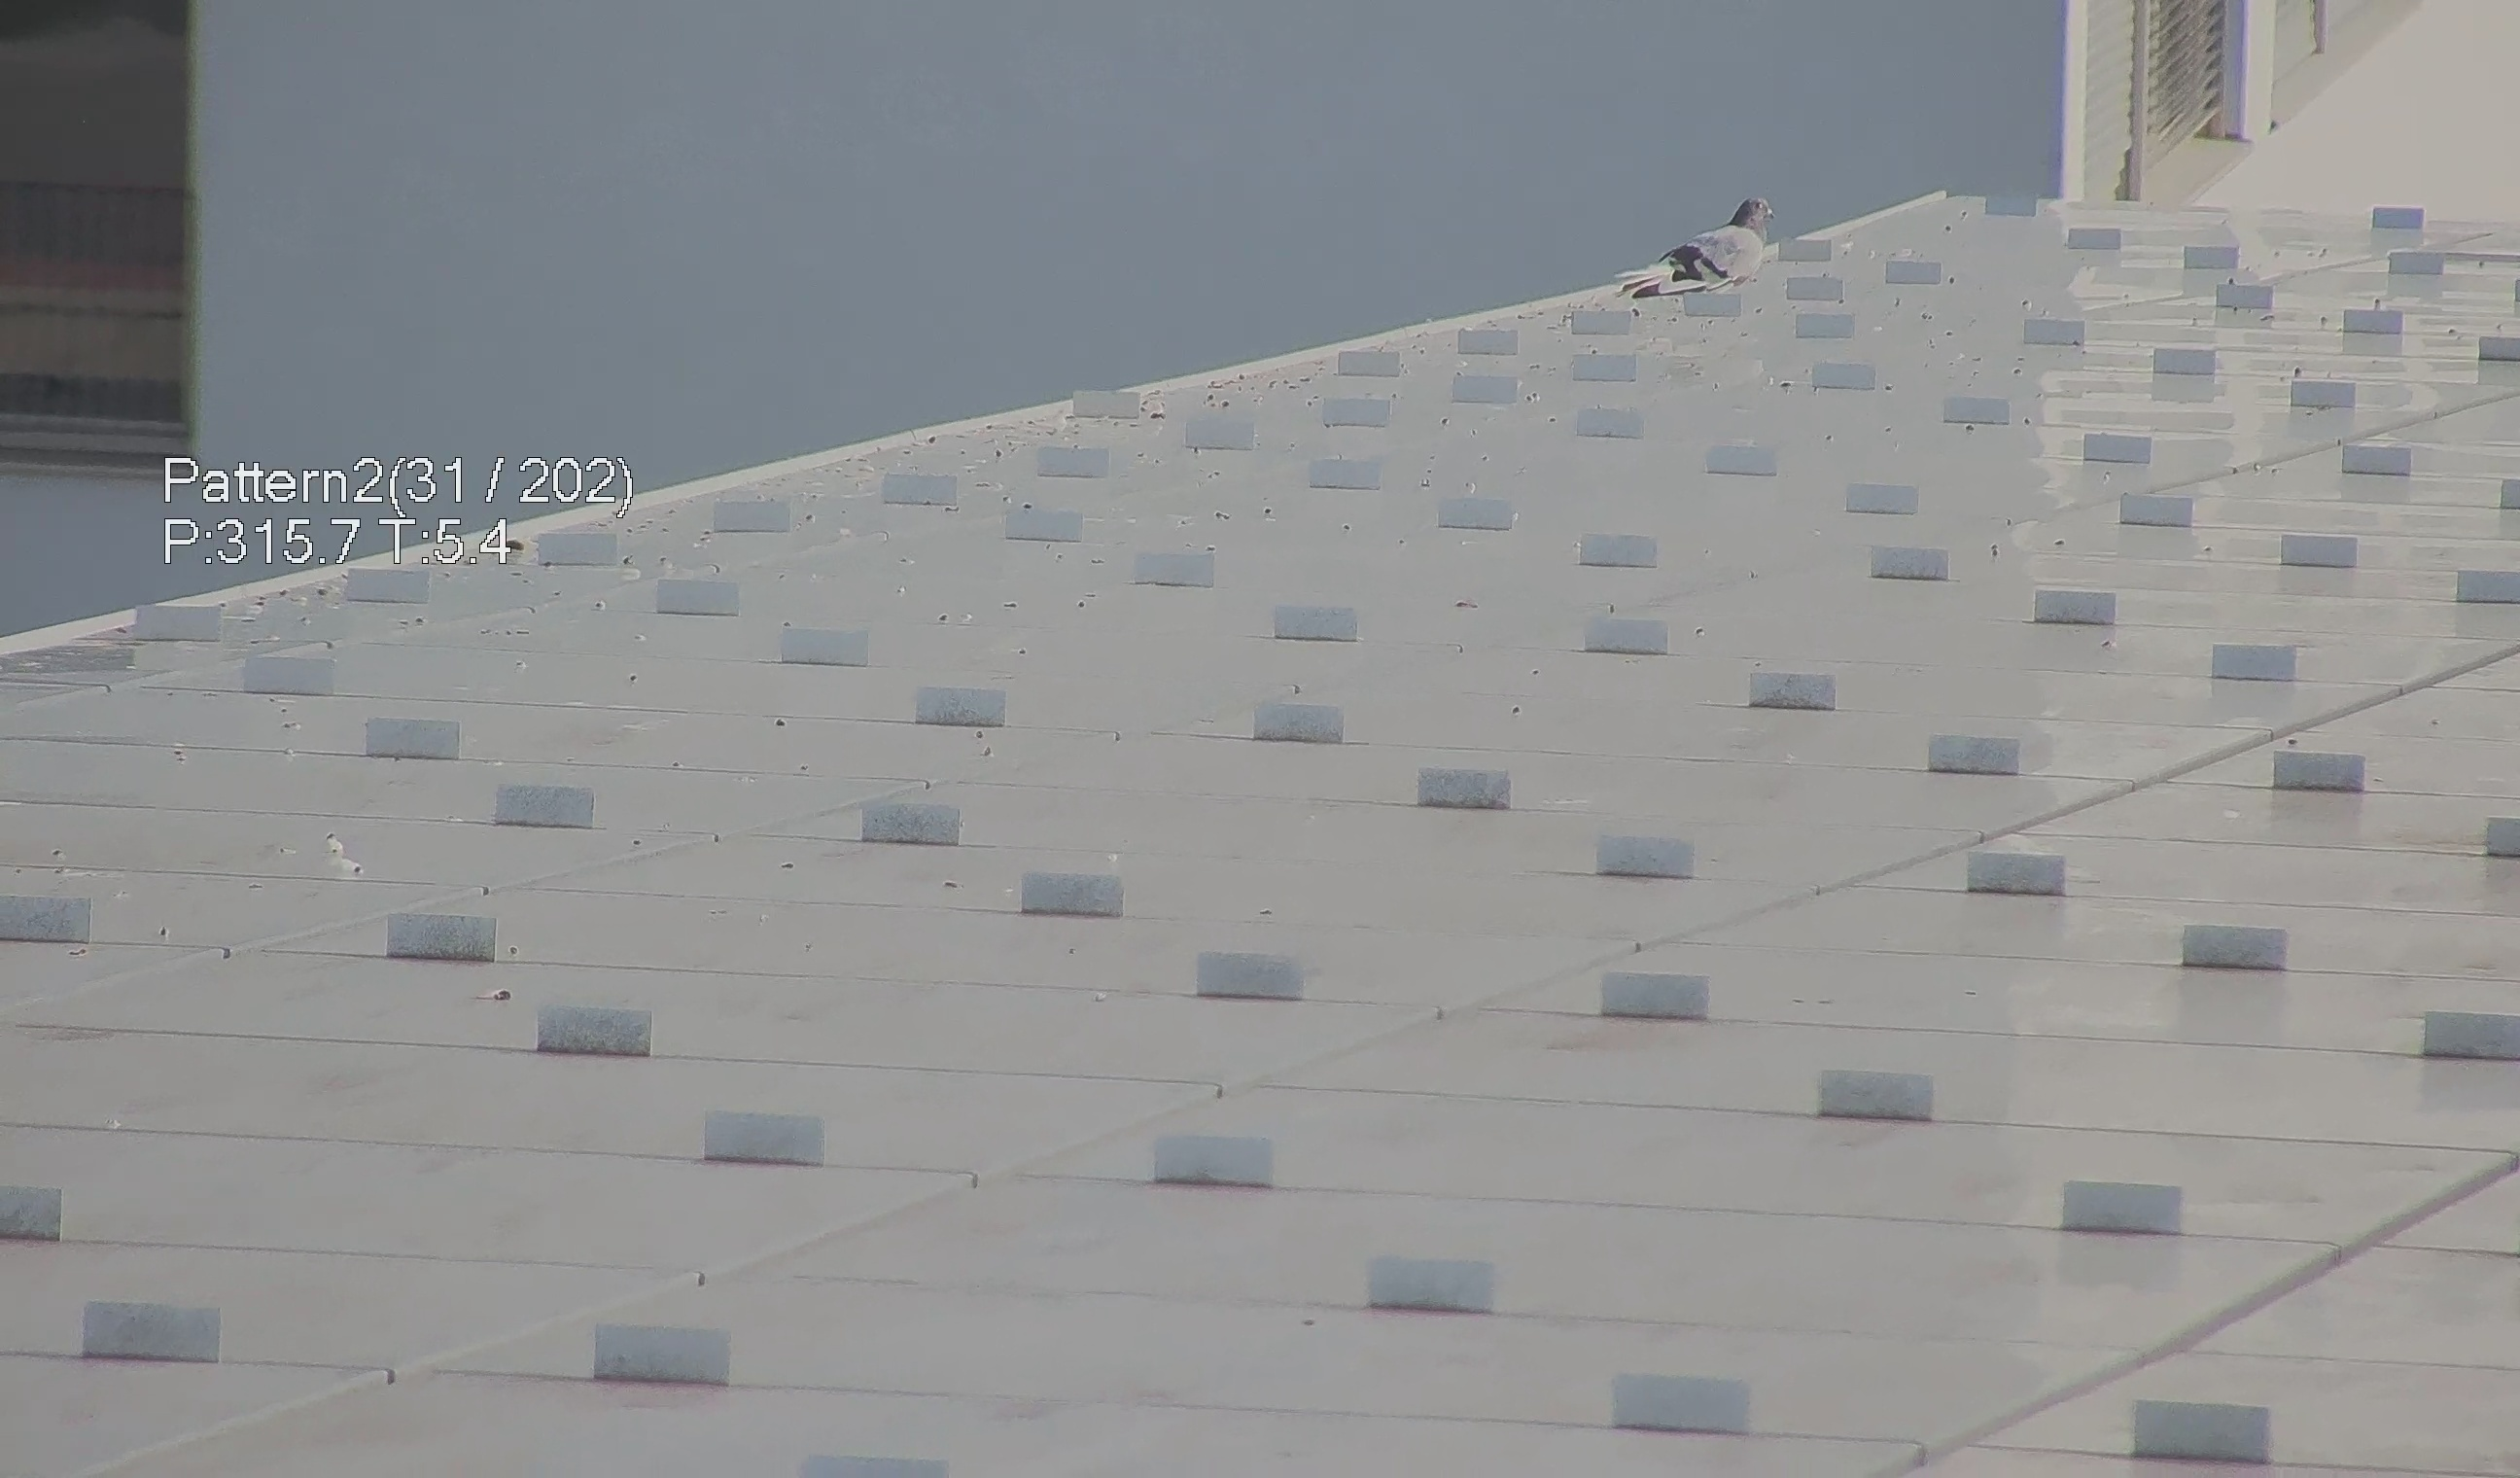Pigeon: (1628, 187, 1792, 297)
